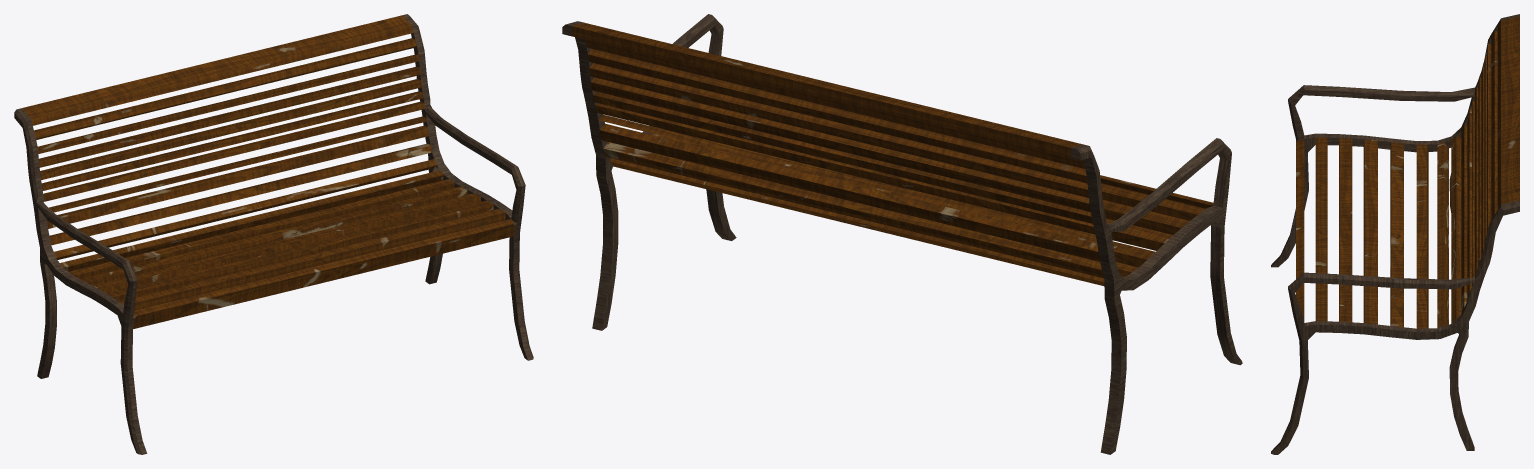
The model's file is bench.glb.
3 views of the same model, side by side, from view 1: azimuth 30°, elevation 25°; view 2: azimuth 150°, elevation 25°; view 3: azimuth 270°, elevation 25° (orthographic). The views are drawn at different scales.
Parts seen in each view (by area): view 1: Prop_Bench_01; view 2: Prop_Bench_01; view 3: Prop_Bench_01.
Part boxes in pixels (x1,y1,x2,y2): Prop_Bench_01: (14,14,533,454); Prop_Bench_01: (562,14,1242,454); Prop_Bench_01: (1271,14,1519,454).
Size of the model in its own units: 1.83 by 1.12 by 1.01.
2 materials, 2 textured.
